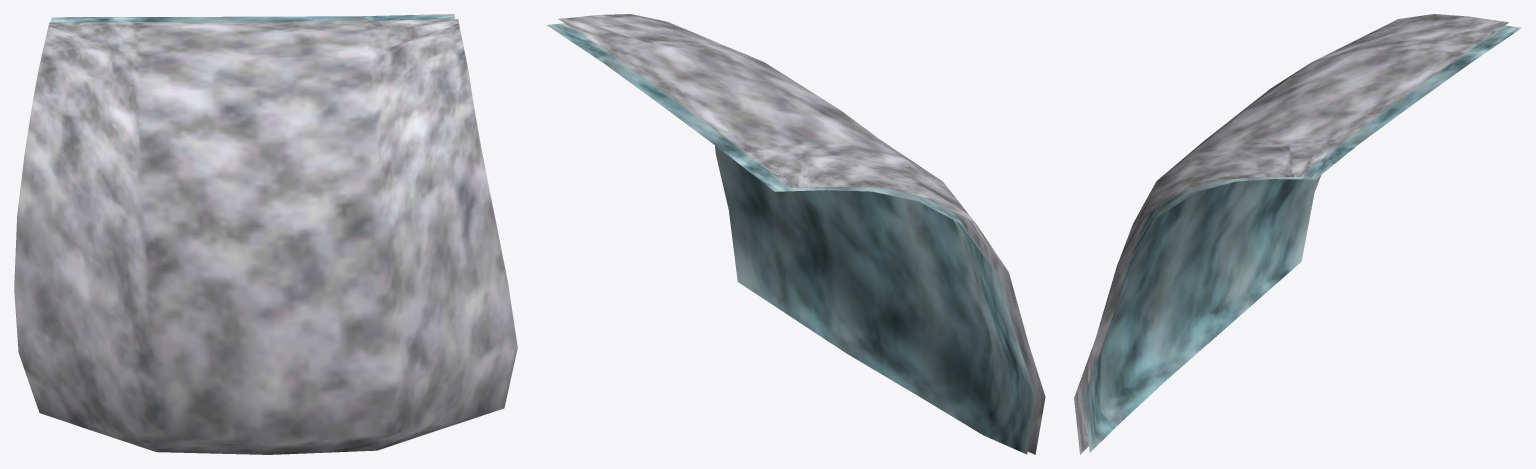
File: CB_NEWPLAYSURFACE_CB_WATERFALLS03.fbx
3 renders of one model, left to right at view 1: azimuth 30°, elevation 25°; view 2: azimuth 150°, elevation 25°; view 3: azimuth 270°, elevation 25°, orthographic. The views are drawn at different scales.
Visible parts, largest first — view 1: CB_NEWPLAYSURFACE_CB_WATERFALLS03; view 2: CB_NEWPLAYSURFACE_CB_WATERFALLS03; view 3: CB_NEWPLAYSURFACE_CB_WATERFALLS03.
Part boxes in pixels (x1,y1,x2,y2): CB_NEWPLAYSURFACE_CB_WATERFALLS03: [14, 14, 517, 454]; CB_NEWPLAYSURFACE_CB_WATERFALLS03: [547, 14, 1045, 454]; CB_NEWPLAYSURFACE_CB_WATERFALLS03: [1074, 14, 1521, 454].
Size of the model in its own units: 78188 by 54747 by 66247.
2 materials, 2 textured.
